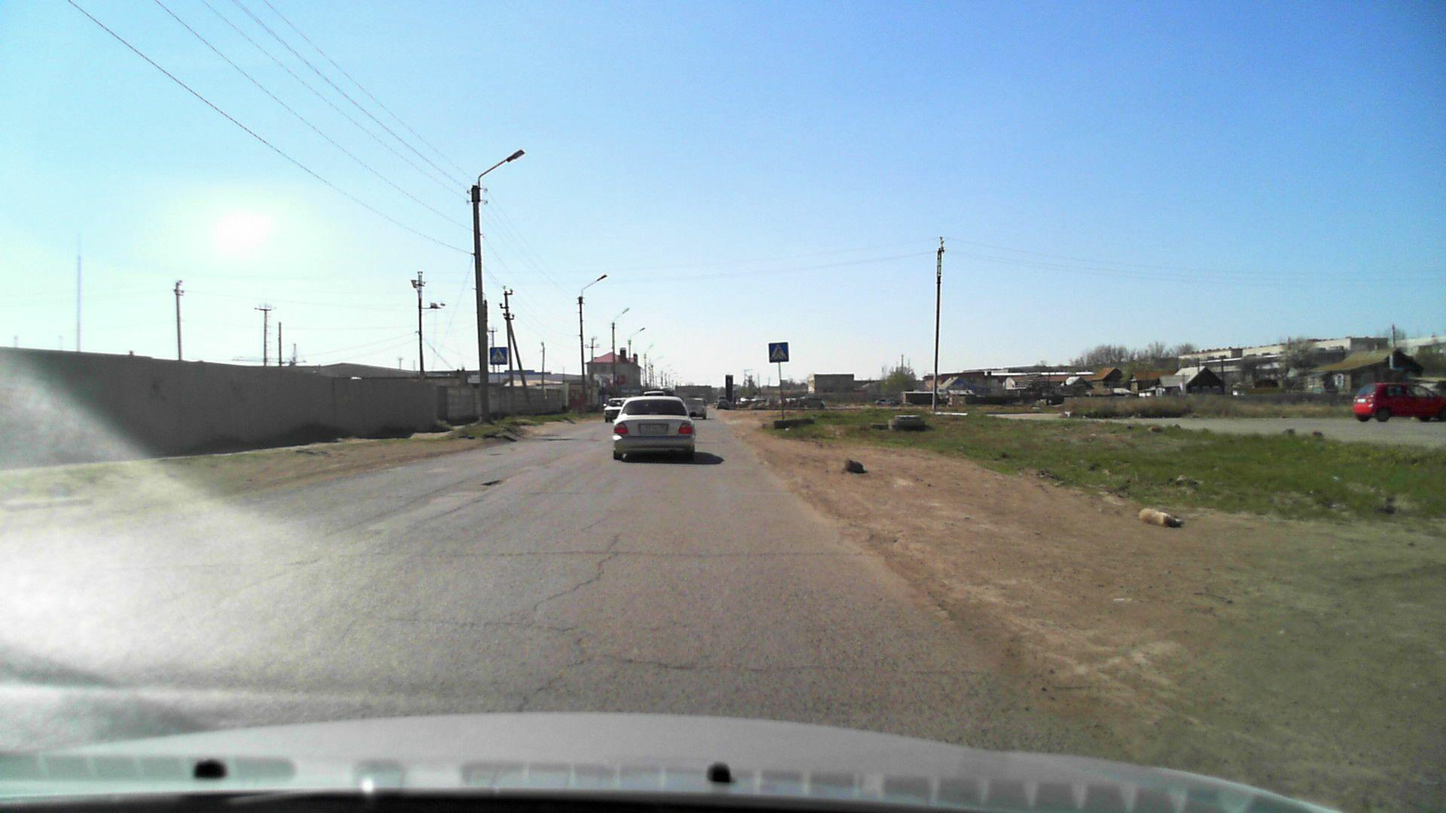road_sign: (767, 340, 790, 364), (489, 346, 508, 365)
